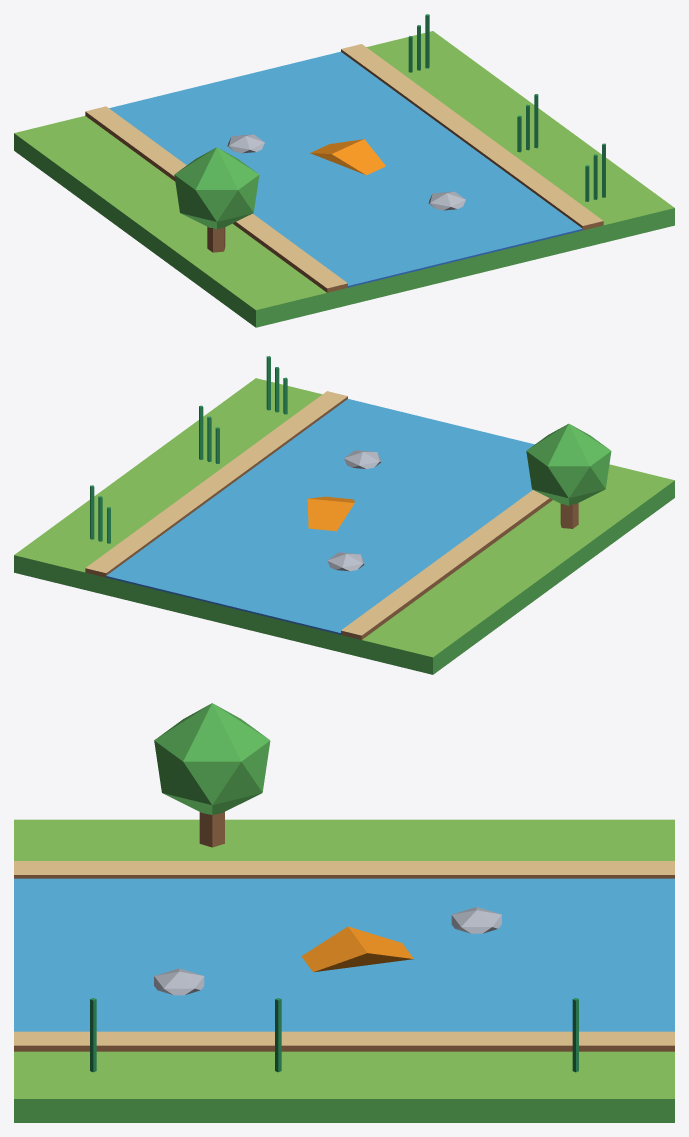
Rendered from nature_river_straight.glb.
3 views of the same model, one above another, from view 1: azimuth 30°, elevation 25°; view 2: azimuth 150°, elevation 25°; view 3: azimuth 270°, elevation 25° (orthographic). The views are drawn at different scales.
Parts seen in each view (by area): view 1: nature_river_straight; view 2: nature_river_straight; view 3: nature_river_straight.
Part boxes in pixels (x1,y1,x2,y2): nature_river_straight: (14,14,674,327); nature_river_straight: (14,356,674,674); nature_river_straight: (14,703,674,1122).
Bounding box in the file's own units: 1.01 × 0.272 × 1.
